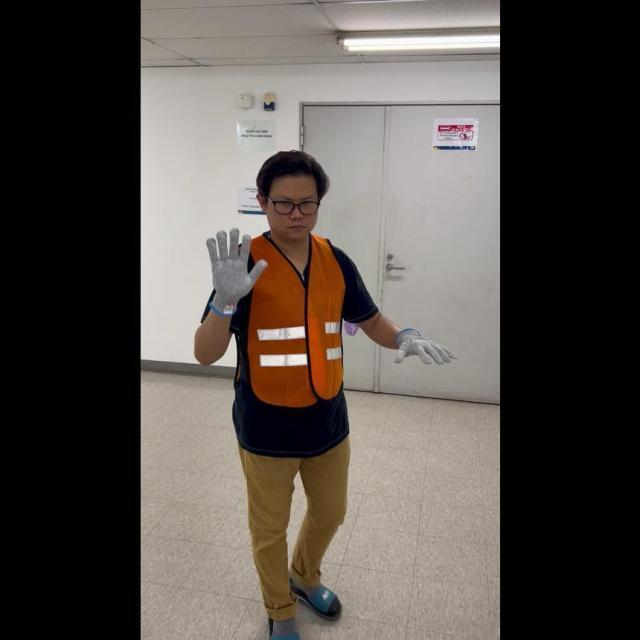gloved_hand: (202, 221, 267, 313), (390, 321, 454, 370)
